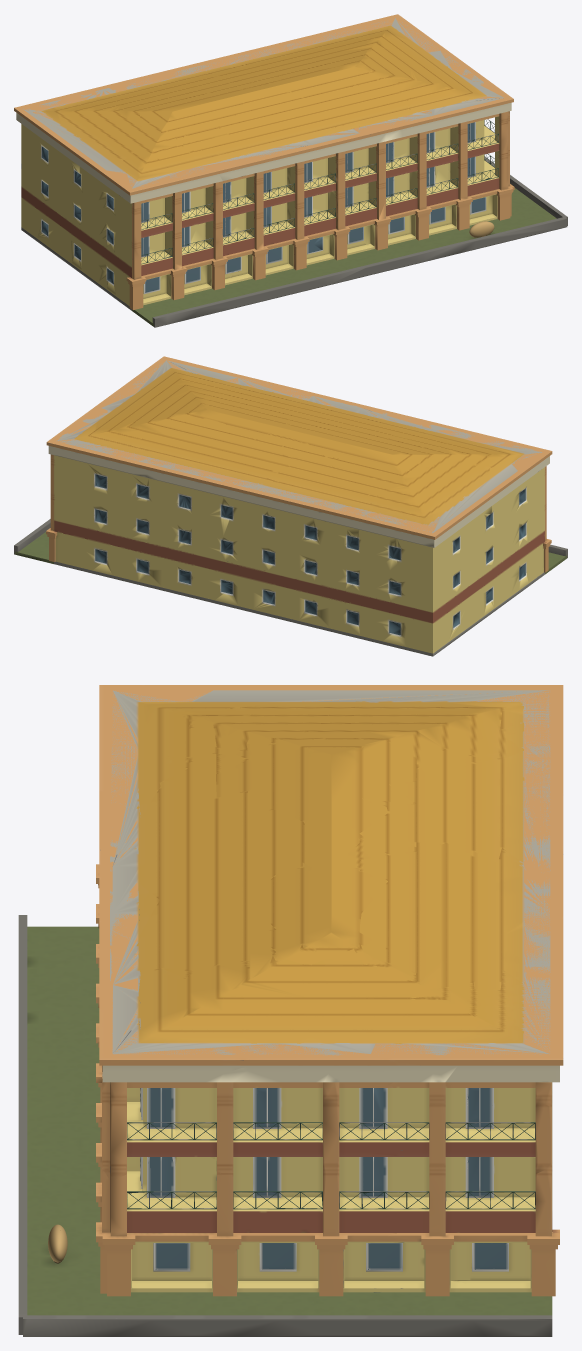
The model's file is khach_san_grand_canh_nam.glb.
The picture shows the model from 3 angles, top to bottom: view 1: azimuth 30°, elevation 25°; view 2: azimuth 150°, elevation 25°; view 3: azimuth 270°, elevation 25°; orthographic projection. The views are drawn at different scales.
Parts seen in each view (by area): view 1: khach_san_grand_canh_nam; view 2: khach_san_grand_canh_nam; view 3: khach_san_grand_canh_nam.
Boxes of the visible parts, left/top/right/bottom form: khach_san_grand_canh_nam: left=14, top=14, right=567, bottom=327; khach_san_grand_canh_nam: left=14, top=356, right=567, bottom=656; khach_san_grand_canh_nam: left=18, top=685, right=563, bottom=1336.
Bounding box in the file's own units: 44.4 × 13.75 × 25.
Materials: 3 (3 with a texture image).
